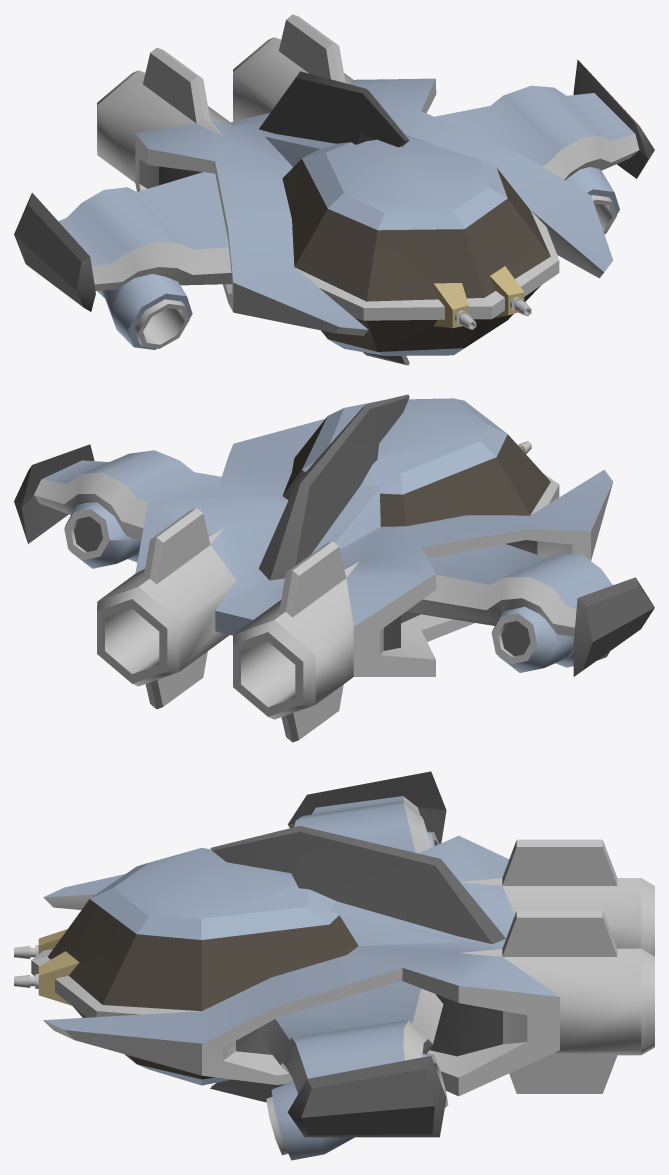
Rendered from esxolus_bomber_model.fbx.
The picture shows the model from 3 angles, top to bottom: view 1: azimuth 30°, elevation 25°; view 2: azimuth 150°, elevation 25°; view 3: azimuth 270°, elevation 25°; orthographic projection. The views are drawn at different scales.
Parts seen in each view (by area): view 1: bomber; view 2: bomber; view 3: bomber.
Part boxes in pixels (box(x1,y1,x2,y2)): bomber: box(14, 14, 654, 365); bomber: box(14, 394, 654, 742); bomber: box(14, 771, 654, 1160).
Bounding box in the file's own units: 33.36 × 14.7 × 29.97.
